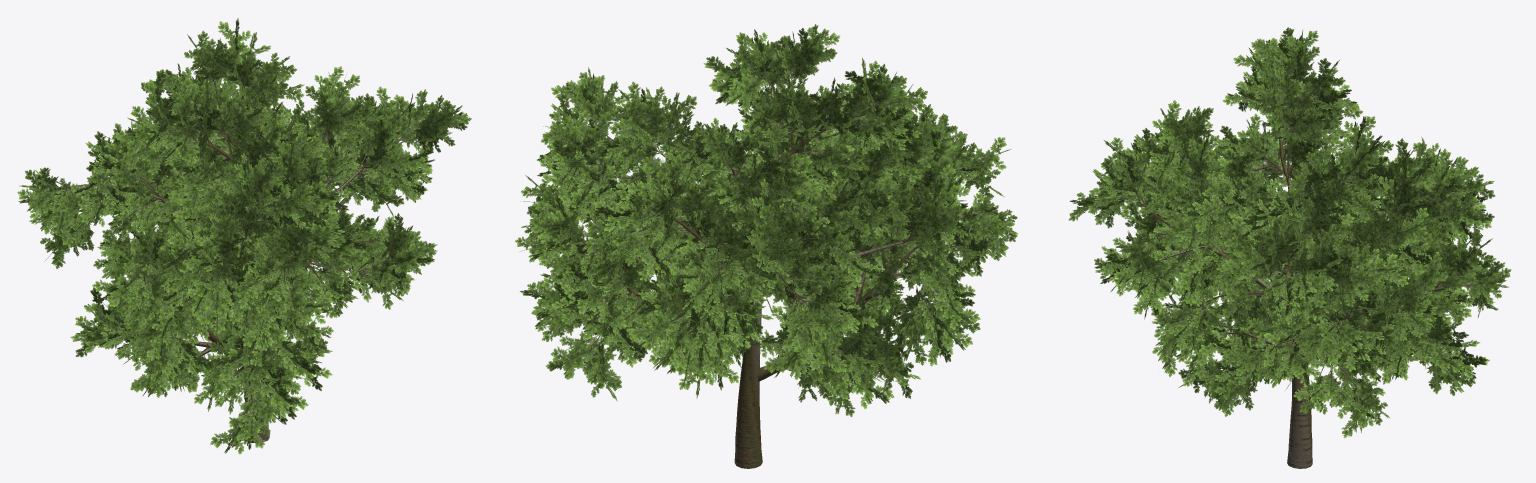
File: tree_3.glb
The picture shows the model from 3 angles, left to right: view 1: azimuth 30°, elevation 25°; view 2: azimuth 150°, elevation 25°; view 3: azimuth 270°, elevation 25°; orthographic projection. The views are drawn at different scales.
Visible parts, largest first — view 1: tree_3; view 2: tree_3; view 3: tree_3.
Boxes of the visible parts, <box> form: tree_3: <box>17,18,471,454</box>; tree_3: <box>515,24,1017,468</box>; tree_3: <box>1068,27,1511,468</box>.
Bounding box in the file's own units: 10.77 × 10.69 × 10.85.
2 materials, 2 textured.
